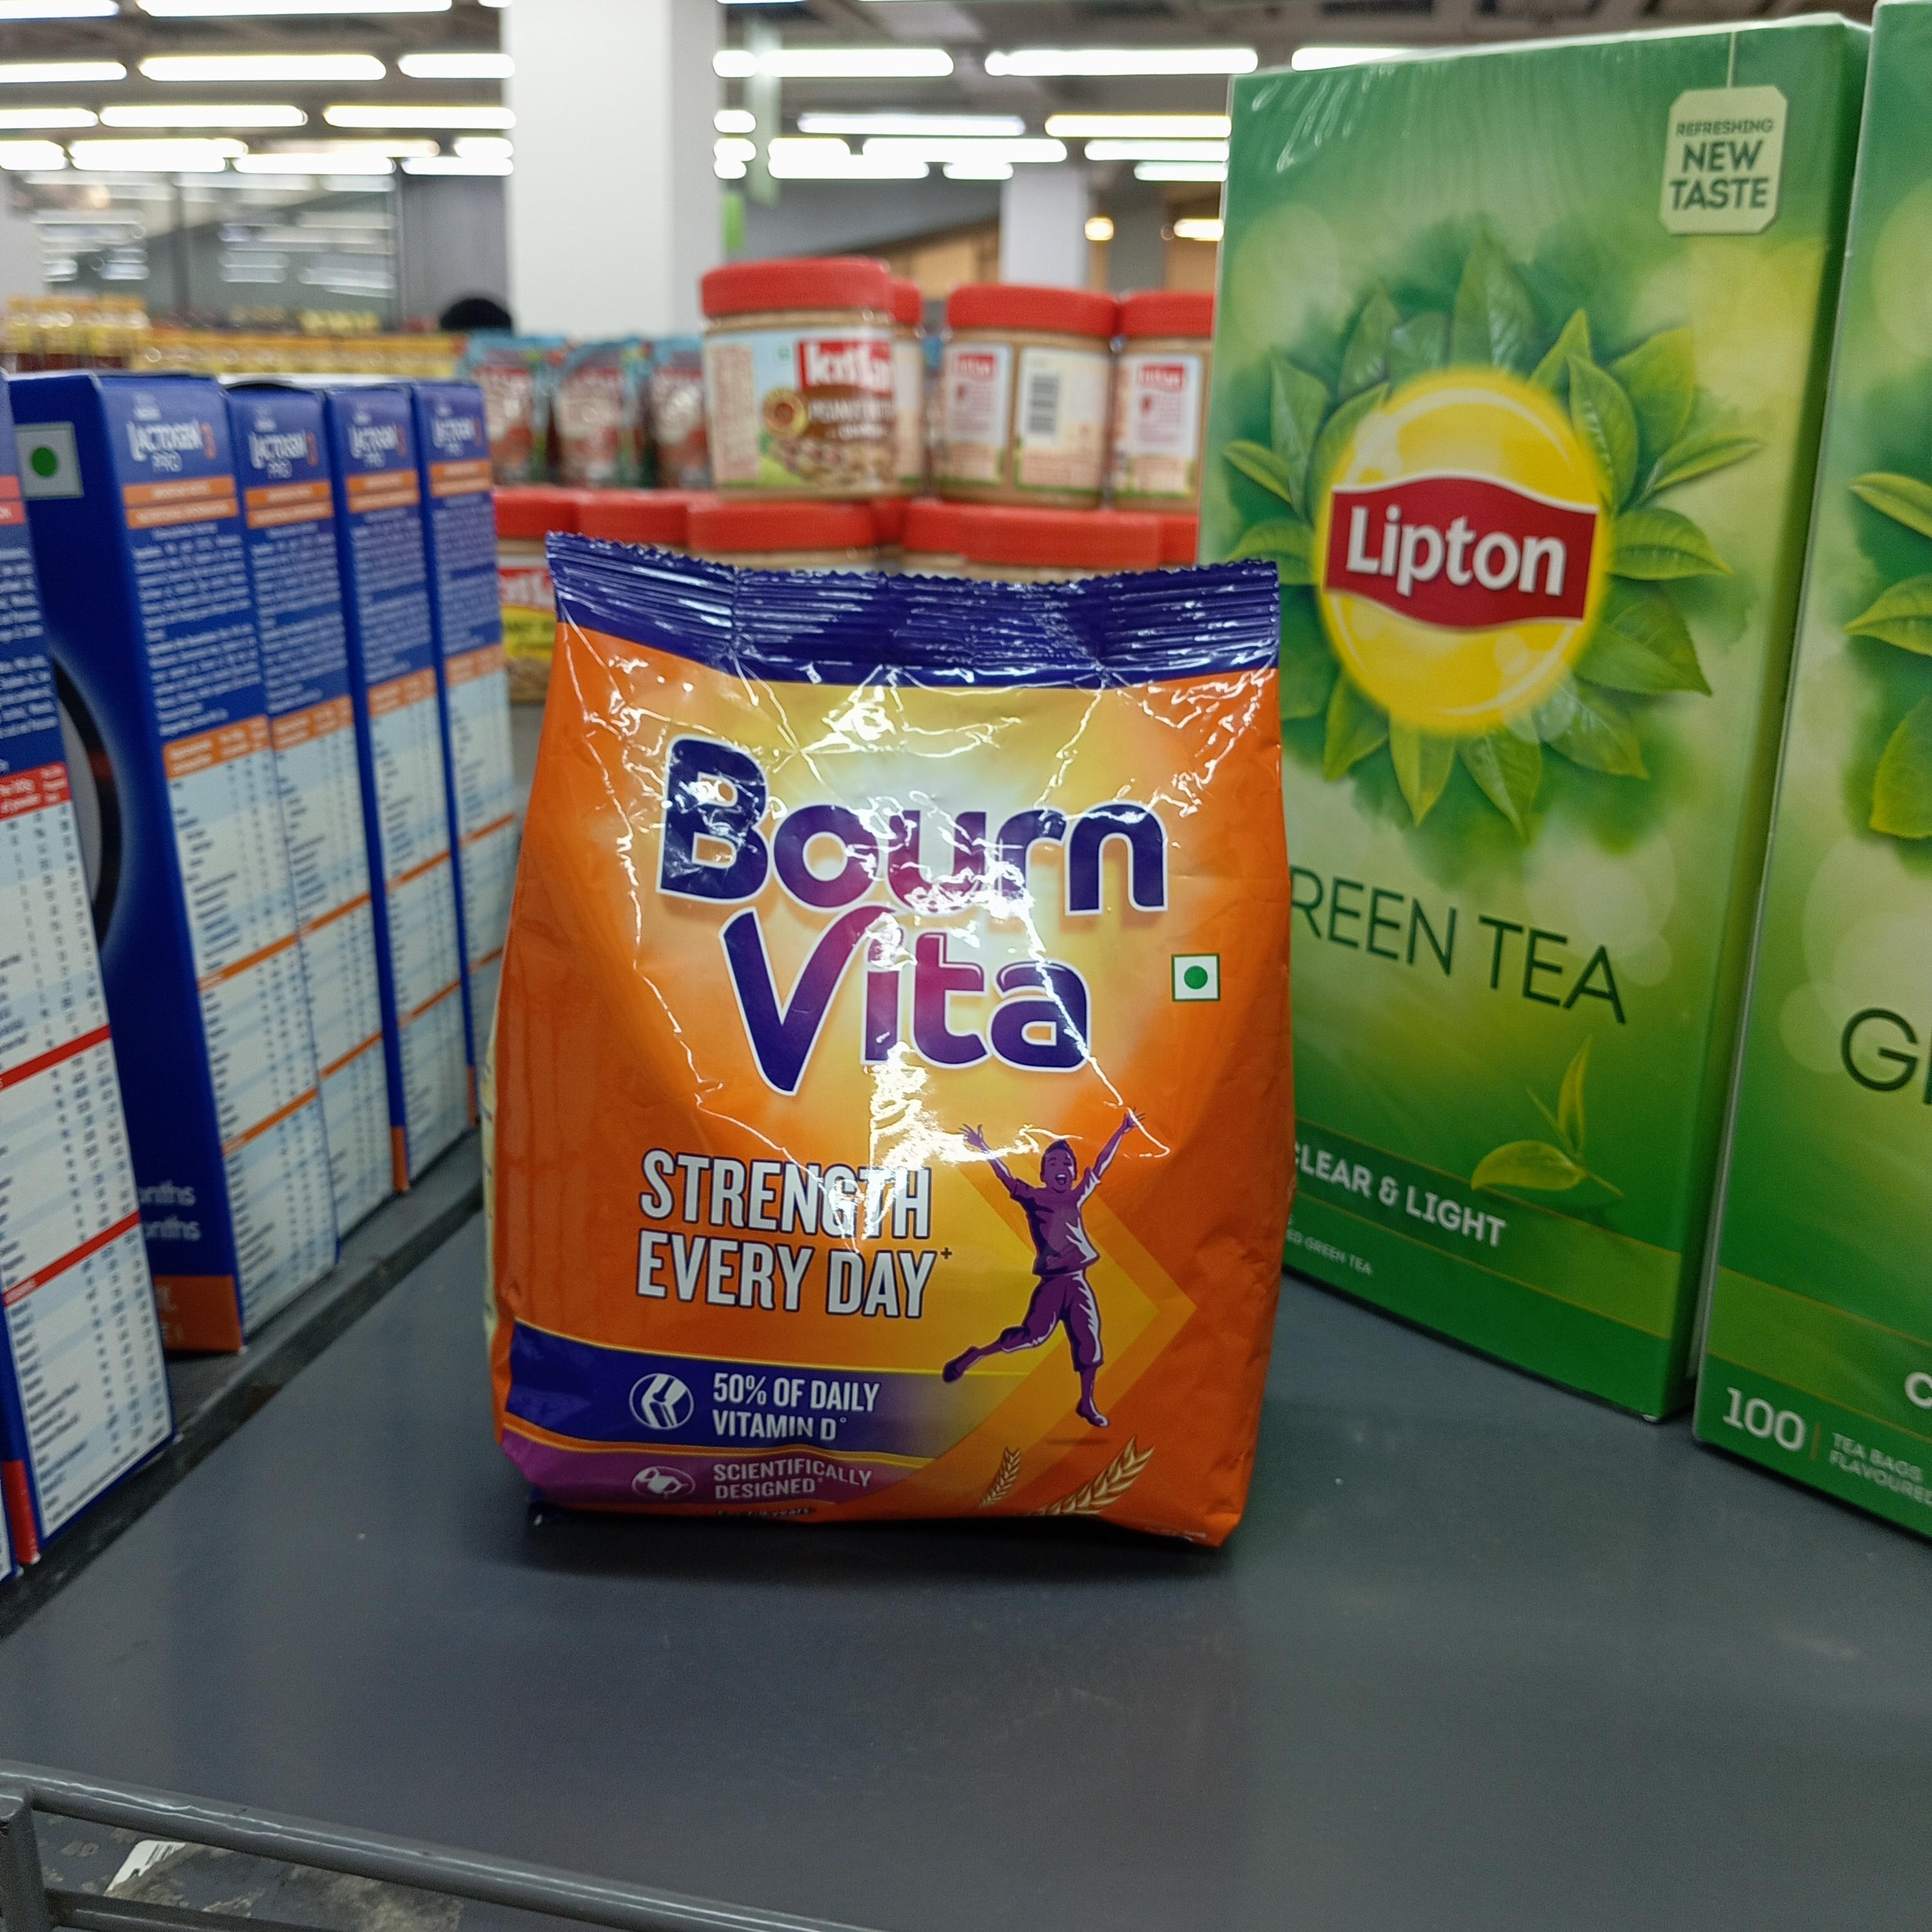BOURN_VITA_500_G_POUCH: (515, 510, 1276, 1550)
